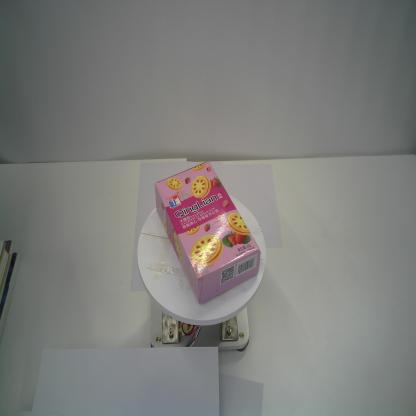Dessert: (153, 159, 262, 307)
